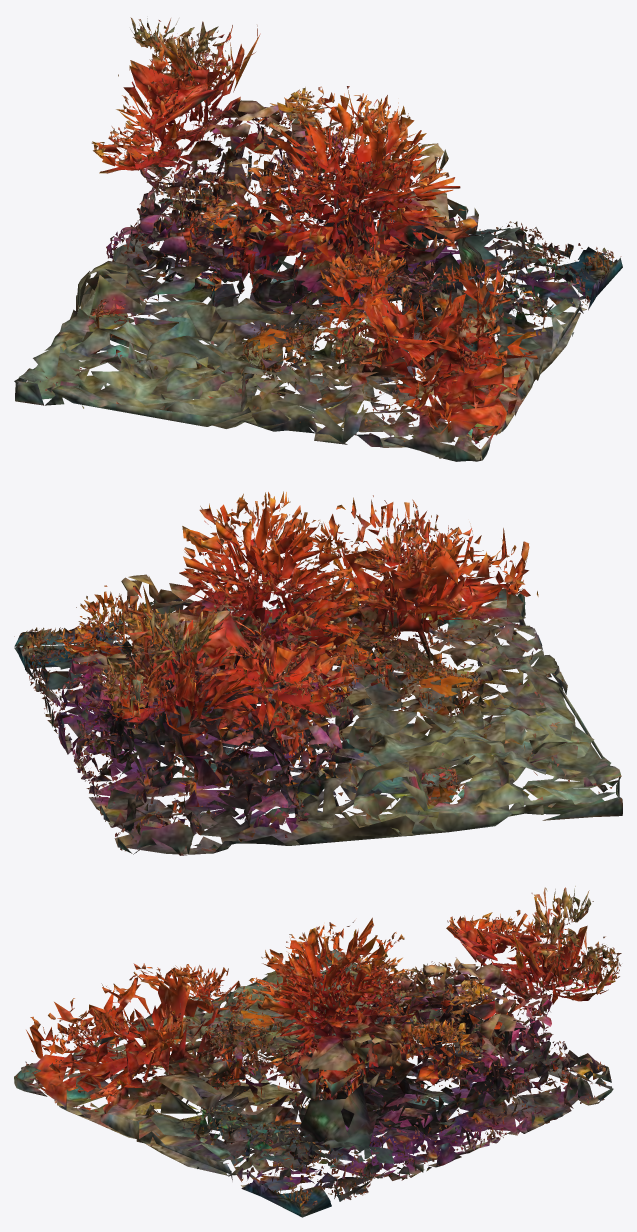
File: coral_aurora.glb
3 renders of one model, top to bottom at view 1: azimuth 30°, elevation 25°; view 2: azimuth 150°, elevation 25°; view 3: azimuth 270°, elevation 25°, orthographic. The views are drawn at different scales.
Parts seen in each view (by area): view 1: Object_4, Object_5, Object_6, Object_7, Object_8, Object_9, Object_10, Object_11, Object_13, Object_12, Object_14, Object_15 (+1 smaller); view 2: Object_4, Object_5, Object_6, Object_7, Object_8, Object_9, Object_10, Object_11, Object_13, Object_12, Object_14, Object_15 (+1 smaller); view 3: Object_4, Object_5, Object_6, Object_7, Object_8, Object_9, Object_10, Object_11, Object_12, Object_13, Object_14, Object_15 (+1 smaller).
Part boxes in pixels (x1,y1,x2,y2): Object_4: (19, 33, 613, 461); Object_5: (14, 37, 622, 447); Object_6: (87, 23, 617, 446); Object_7: (70, 23, 606, 444); Object_8: (72, 20, 613, 434); Object_9: (55, 18, 621, 441); Object_10: (45, 18, 610, 452); Object_11: (95, 23, 601, 443); Object_13: (89, 30, 614, 441); Object_12: (55, 17, 613, 451); Object_14: (40, 31, 613, 435); Object_15: (45, 20, 609, 460); Object_4: (14, 503, 615, 855); Object_5: (14, 493, 622, 854); Object_6: (16, 492, 558, 854); Object_7: (29, 492, 581, 851); Object_8: (22, 492, 576, 846); Object_9: (14, 491, 618, 851); Object_10: (29, 501, 607, 841); Object_11: (19, 501, 574, 822); Object_13: (25, 509, 600, 850); Object_12: (15, 498, 597, 850); Object_14: (24, 495, 612, 843); Object_15: (23, 510, 553, 852); Object_4: (14, 915, 614, 1217); Object_5: (26, 894, 614, 1216); Object_6: (21, 888, 611, 1213); Object_7: (42, 887, 614, 1206); Object_8: (44, 896, 621, 1210); Object_9: (25, 886, 618, 1207); Object_10: (49, 887, 619, 1199); Object_11: (26, 897, 618, 1204); Object_12: (16, 890, 618, 1214); Object_13: (35, 905, 620, 1206); Object_14: (31, 908, 616, 1204); Object_15: (16, 893, 613, 1206).
Bounding box in the file's own units: 2.68 × 0.9427 × 2.71.
1 material, 1 textured.
